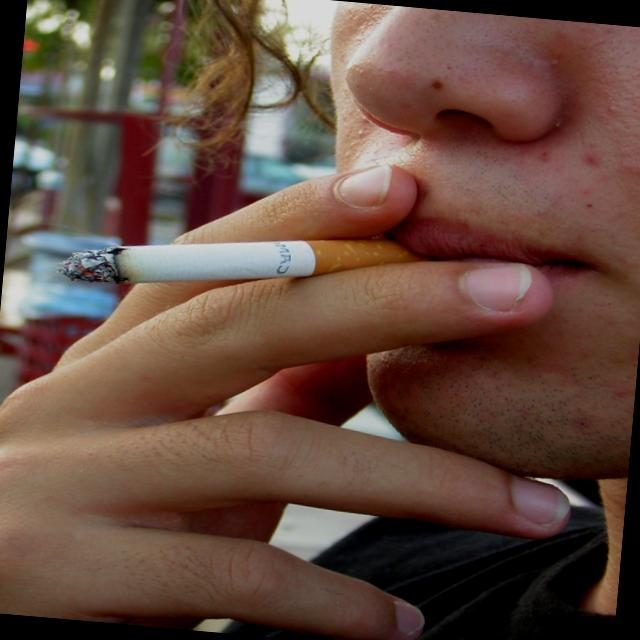smoke: (42, 192, 448, 326)
